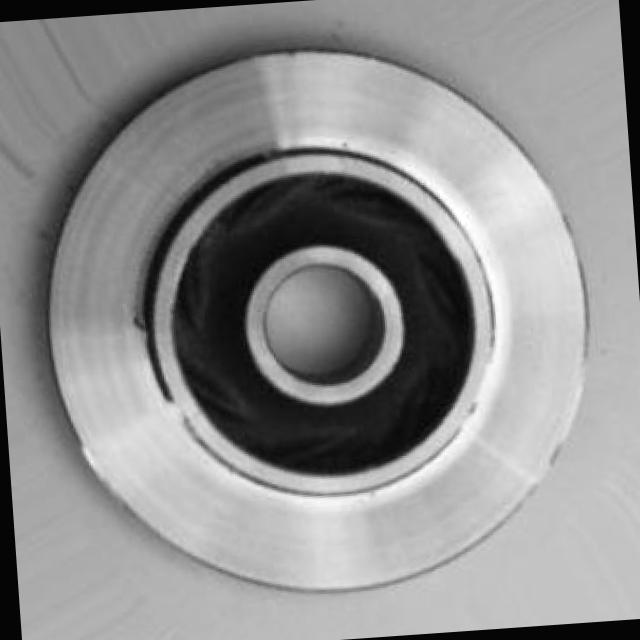Defect: (130, 304, 158, 341)
